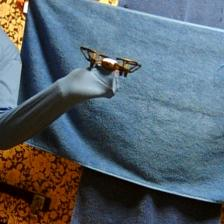drone: (79, 46, 141, 77)
